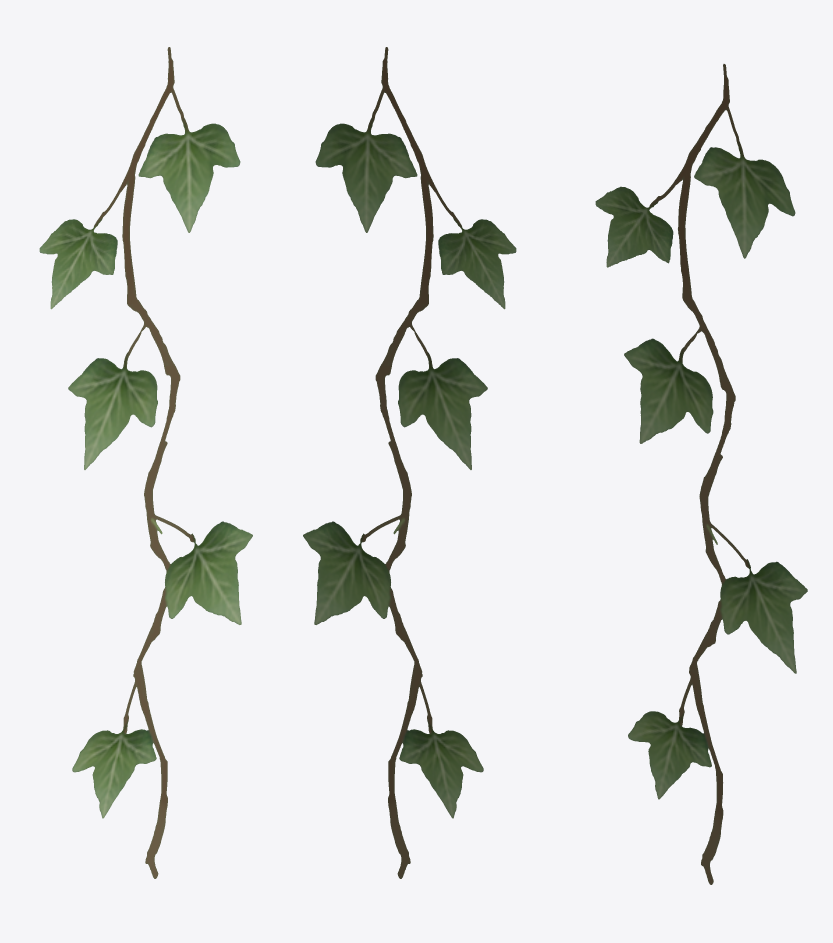
Rendered from BgMD_vine01_03.fbx.
3 views of the same model, side by side, from view 1: azimuth 30°, elevation 25°; view 2: azimuth 150°, elevation 25°; view 3: azimuth 330°, elevation 25° (orthographic).
Parts seen in each view (by area): view 1: BgMD_vine01_03; view 2: BgMD_vine01_03; view 3: BgMD_vine01_03.
Boxes of the visible parts, x1,y1,x2,y2 form: BgMD_vine01_03: [39, 47, 252, 878]; BgMD_vine01_03: [303, 47, 516, 878]; BgMD_vine01_03: [595, 64, 807, 884].
Bounding box in the file's own units: 9.85 × 32.93 × 1.42e-14.
